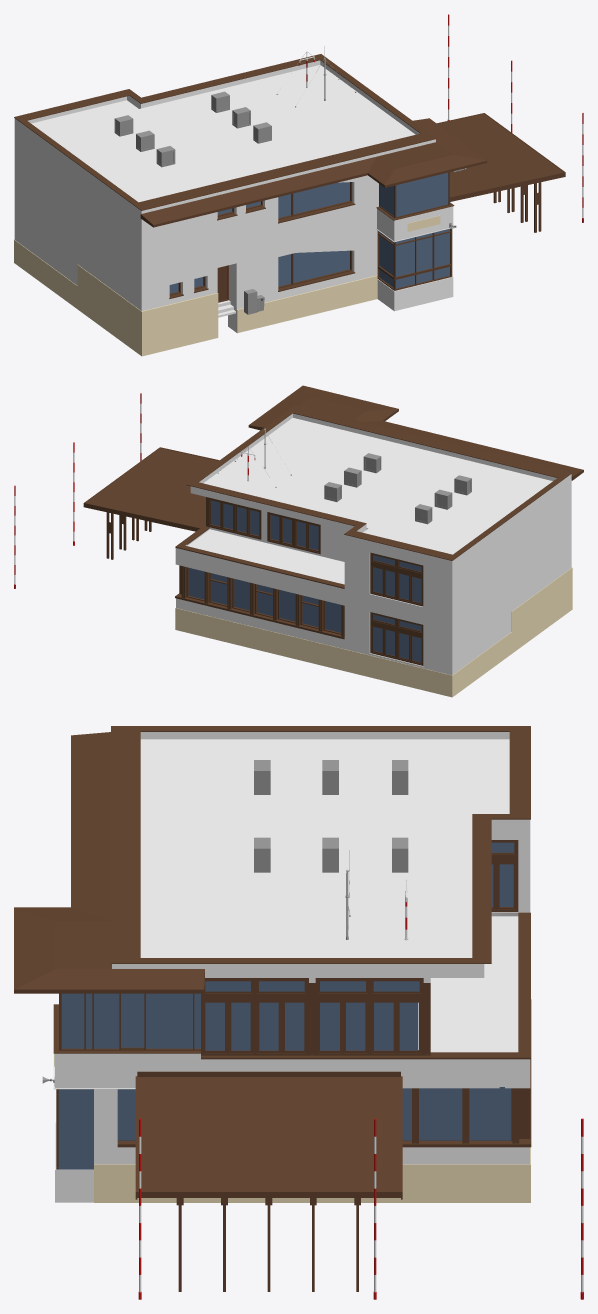
Rendered from Airport.fbx.
3 renders of one model, top to bottom at view 1: azimuth 30°, elevation 25°; view 2: azimuth 150°, elevation 25°; view 3: azimuth 270°, elevation 25°, orthographic. The views are drawn at different scales.
Visible parts, largest first — view 1: Walls01, Floors01, Object003, Object002, Rectangle02, sunshade01, Window_glass01, Window_glass02, Window_frames01, Rectangle01, Window_frames02, Box704; view 2: Walls01, Floors01, Object003, sunshade01, Object002, Window_glass01, Window_frames01, Rectangle02, Window_frames02, Window_glass02, Rectangle01; view 3: Floors01, sunshade01, Window_glass01, Walls01, Object002, Rectangle02, Window_frames01, Object003, Rectangle01, Window_frames02, Window_glass02.
Part boxes in pixels (x1,y1,x2,y2): Walls01: [14, 60, 453, 332]; Floors01: [31, 65, 415, 202]; Object003: [14, 215, 440, 356]; Object002: [14, 54, 454, 298]; Rectangle02: [142, 119, 485, 224]; sunshade01: [437, 113, 565, 232]; Window_glass01: [379, 172, 449, 288]; Window_glass02: [169, 182, 349, 293]; Window_frames01: [377, 172, 452, 290]; Rectangle01: [140, 118, 487, 227]; Window_frames02: [169, 182, 352, 295]; Box704: [244, 289, 264, 314]; Walls01: [175, 413, 571, 675]; Floors01: [187, 418, 552, 584]; Object003: [175, 567, 572, 697]; sunshade01: [83, 447, 219, 559]; Object002: [175, 405, 571, 588]; Window_glass01: [188, 500, 341, 632]; Window_frames01: [175, 497, 344, 639]; Rectangle02: [250, 386, 582, 475]; Window_frames02: [370, 552, 423, 665]; Window_glass02: [373, 555, 421, 662]; Rectangle01: [248, 385, 583, 480]; Floors01: [140, 739, 518, 1052]; sunshade01: [135, 1071, 402, 1291]; Window_glass01: [58, 981, 511, 1169]; Walls01: [53, 732, 530, 1202]; Object002: [53, 726, 530, 1059]; Rectangle02: [15, 732, 202, 988]; Window_frames01: [56, 978, 531, 1169]; Object003: [54, 1053, 530, 1202]; Rectangle01: [14, 732, 204, 993]; Window_frames02: [491, 840, 518, 912]; Window_glass02: [491, 842, 514, 906].
Size of the model in its own units: 2379 by 982 by 1580.
